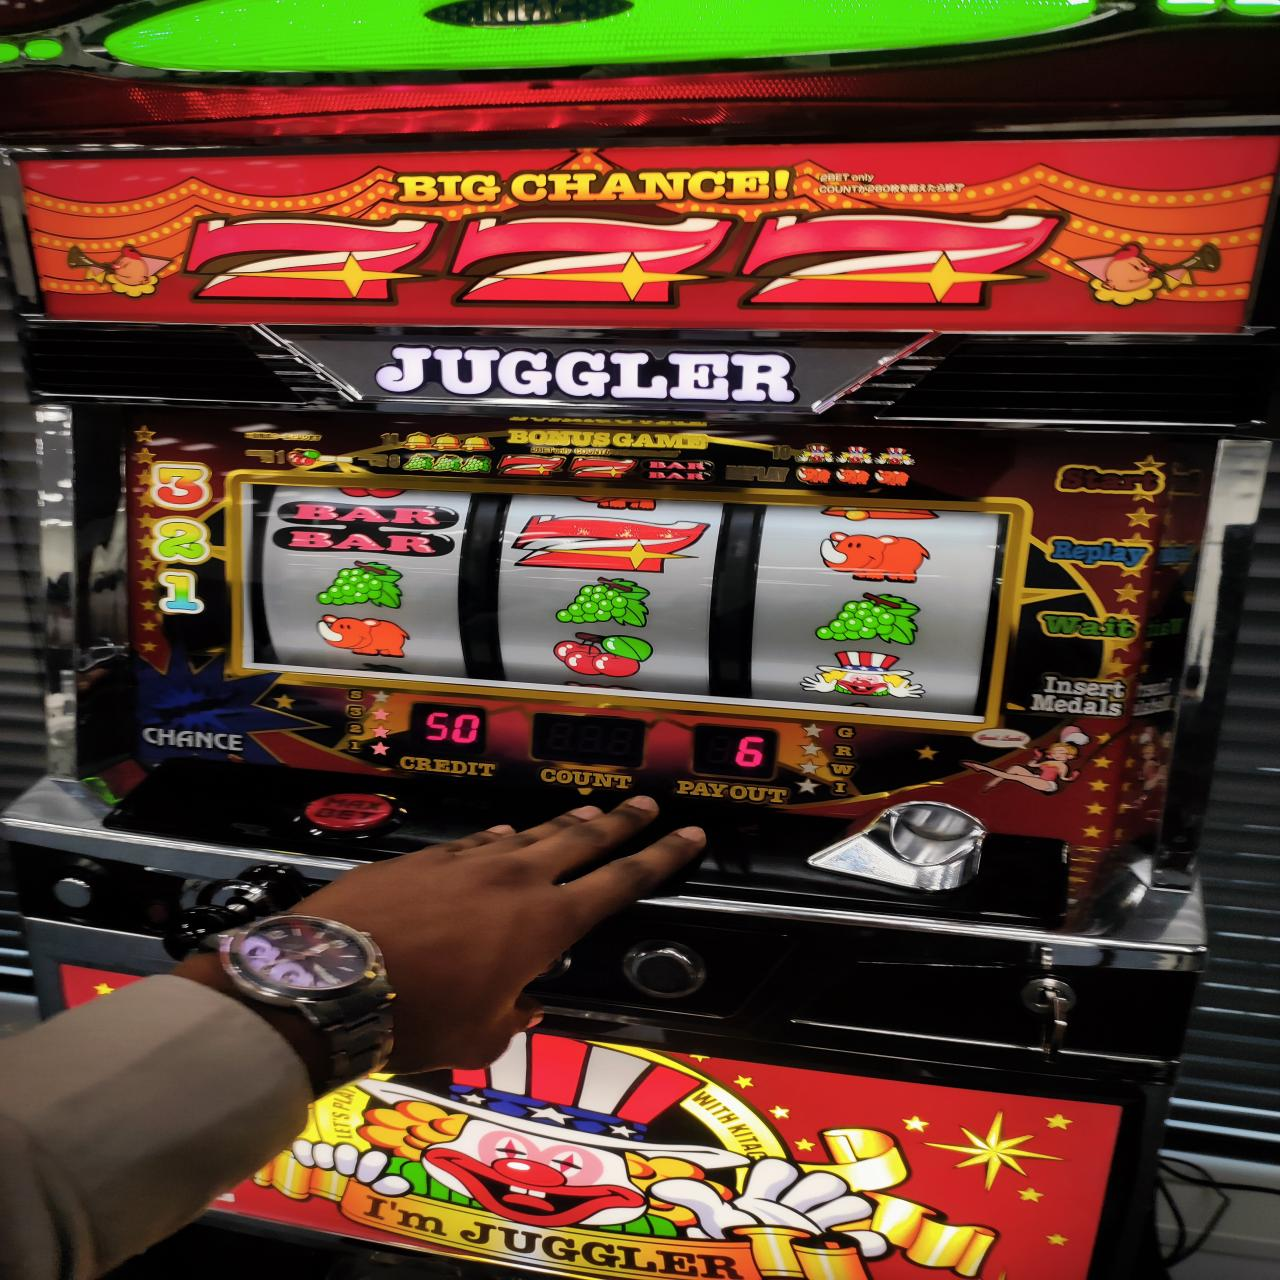7: (512, 512, 710, 572)
8: (817, 529, 934, 581), (313, 612, 411, 658)
Display: (239, 467, 1003, 712)
bar: (272, 501, 456, 557)
cherry: (551, 632, 653, 676)
clown: (797, 651, 922, 703)
grape: (813, 590, 921, 645), (554, 577, 655, 627), (318, 560, 407, 610)
